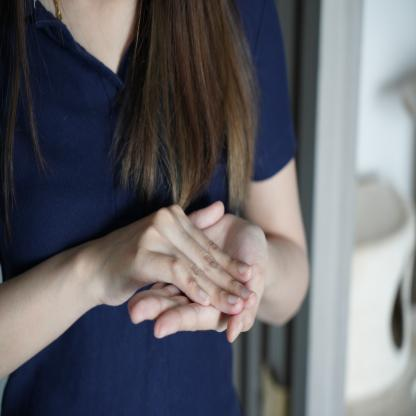Love: (100, 197, 276, 347)
